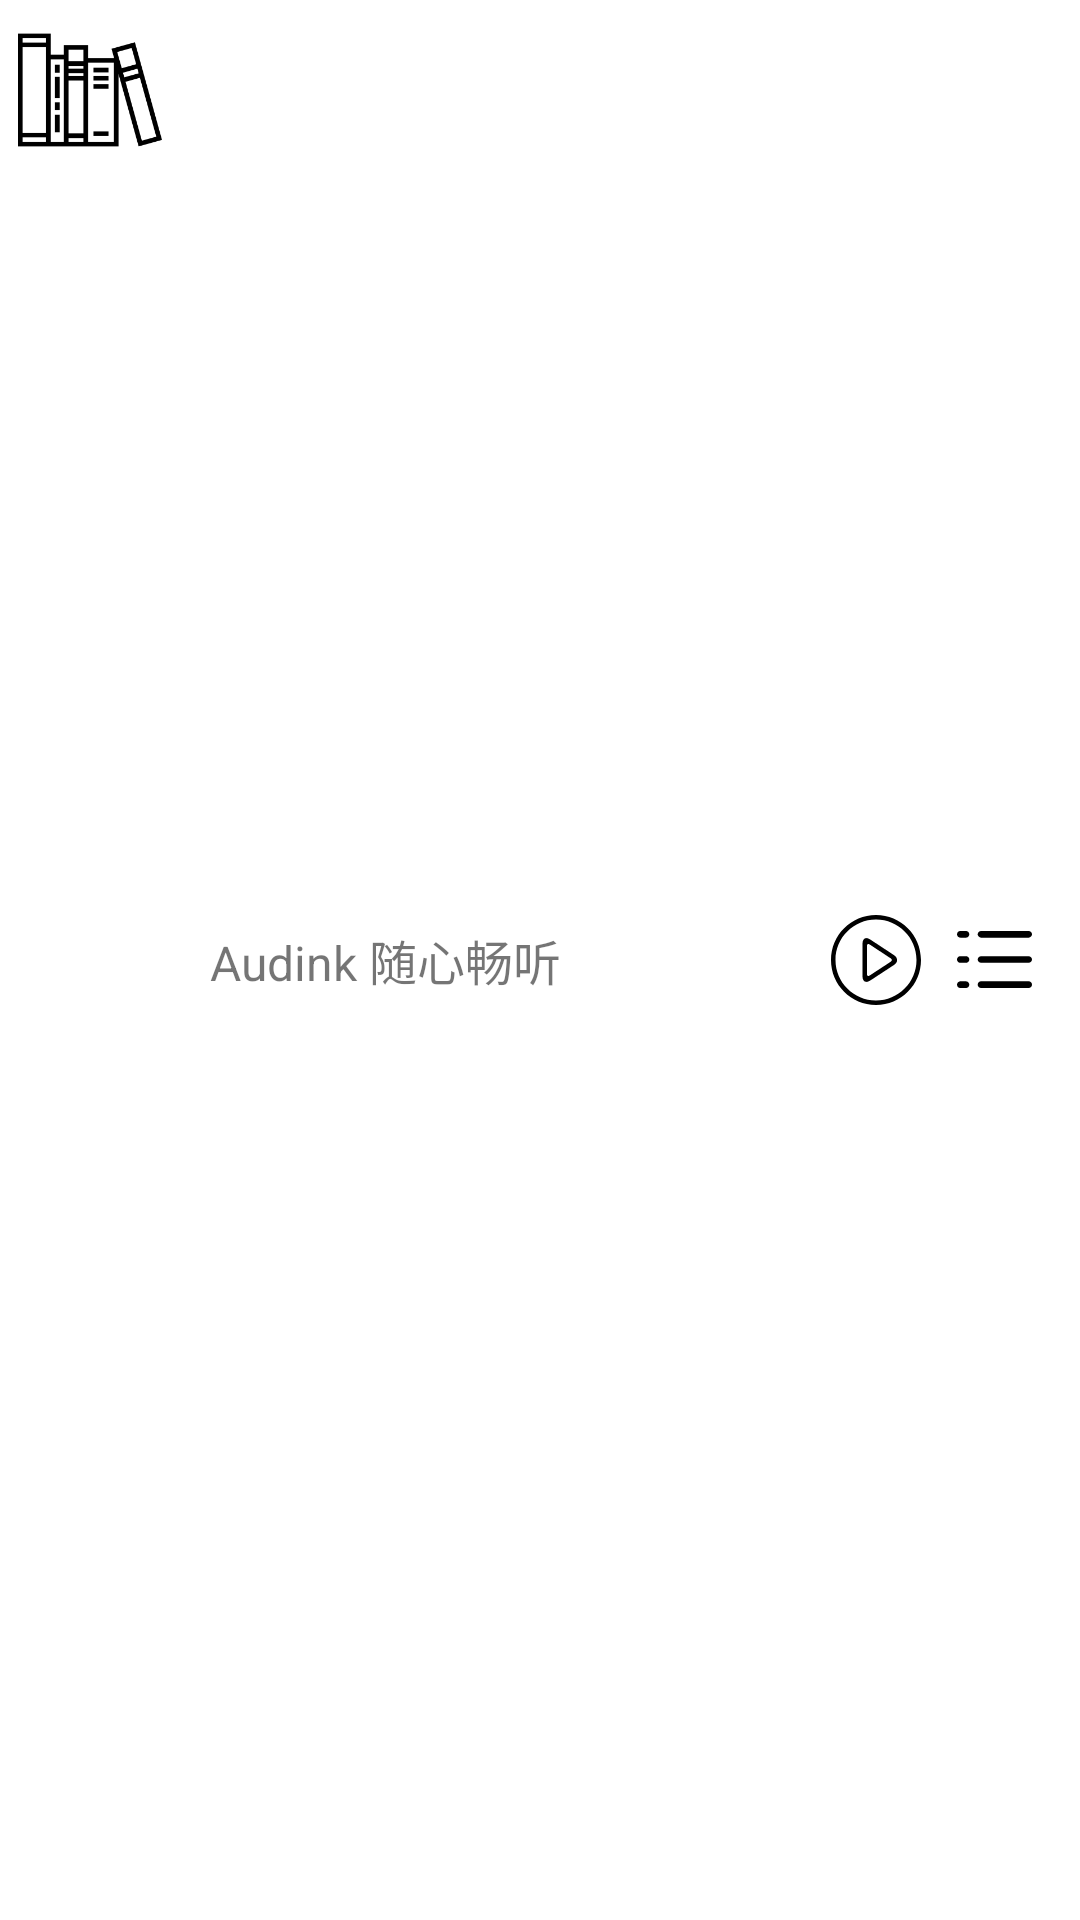

Screen size 1080px x 1920px. Icon name, then its center in pixels as [x,y]:
books: [90,90]
multimedia menu: [994,959]
